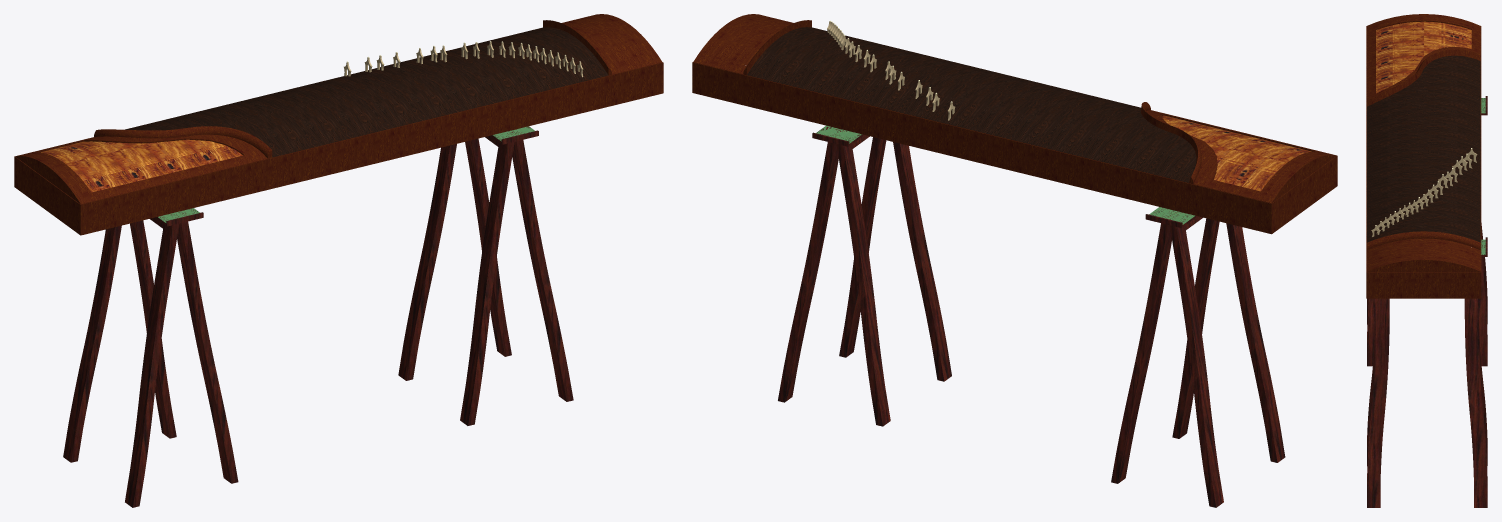
File: Chinese+harp.dae
3 renders of one model, left to right at view 1: azimuth 30°, elevation 25°; view 2: azimuth 150°, elevation 25°; view 3: azimuth 270°, elevation 25°, orthographic. The views are drawn at different scales.
Visible parts, largest first — view 1: Component_1 (×4), Component_16 (×4); view 2: Component_1 (×4), Component_16 (×4); view 3: Component_1 (×4), Component_16 (×4).
Boxes of the visible parts, <box> form: Component_1 (×4): <box>14,14,663,235</box>; Component_16 (×4): <box>63,130,573,507</box>; Component_1 (×4): <box>692,14,1337,234</box>; Component_16 (×4): <box>778,132,1285,507</box>; Component_1 (×4): <box>1366,14,1481,298</box>; Component_16 (×4): <box>1367,96,1487,507</box>.
Bounding box in the file's own units: 64.12 × 13.31 × 36.22.
